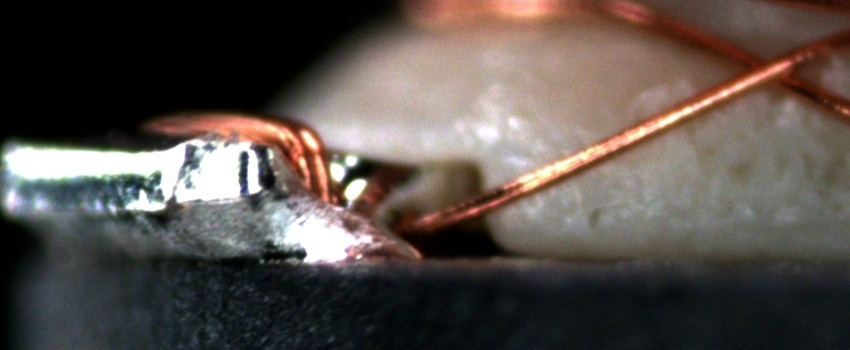CL: (720, 41, 814, 97)
TE: (152, 104, 349, 213)
